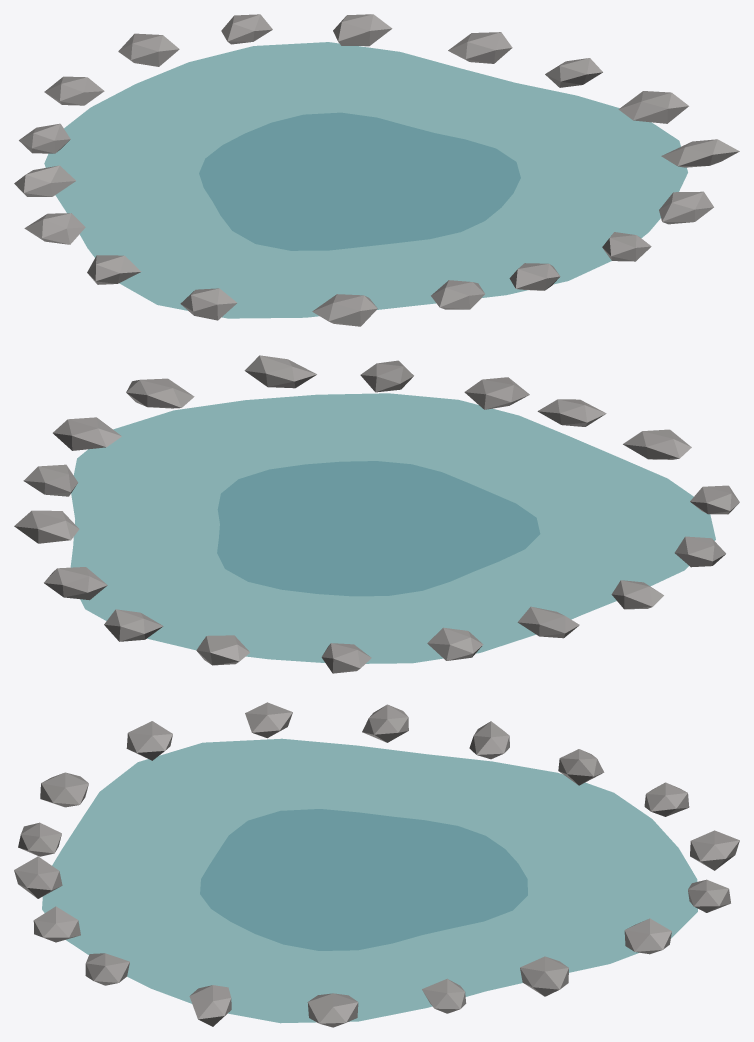
The model's file is hot_spring.glb.
The picture shows the model from 3 angles, top to bottom: view 1: azimuth 30°, elevation 25°; view 2: azimuth 150°, elevation 25°; view 3: azimuth 270°, elevation 25°; orthographic projection. The views are drawn at different scales.
Parts seen in each view (by area): view 1: hot_spring; view 2: hot_spring; view 3: hot_spring.
Part boxes in pixels (<box>): hot_spring: <box>14,14,739,326</box>; hot_spring: <box>14,355,739,673</box>; hot_spring: <box>14,702,739,1027</box>.
Bounding box in the file's own units: 8.16 × 0.3313 × 8.
